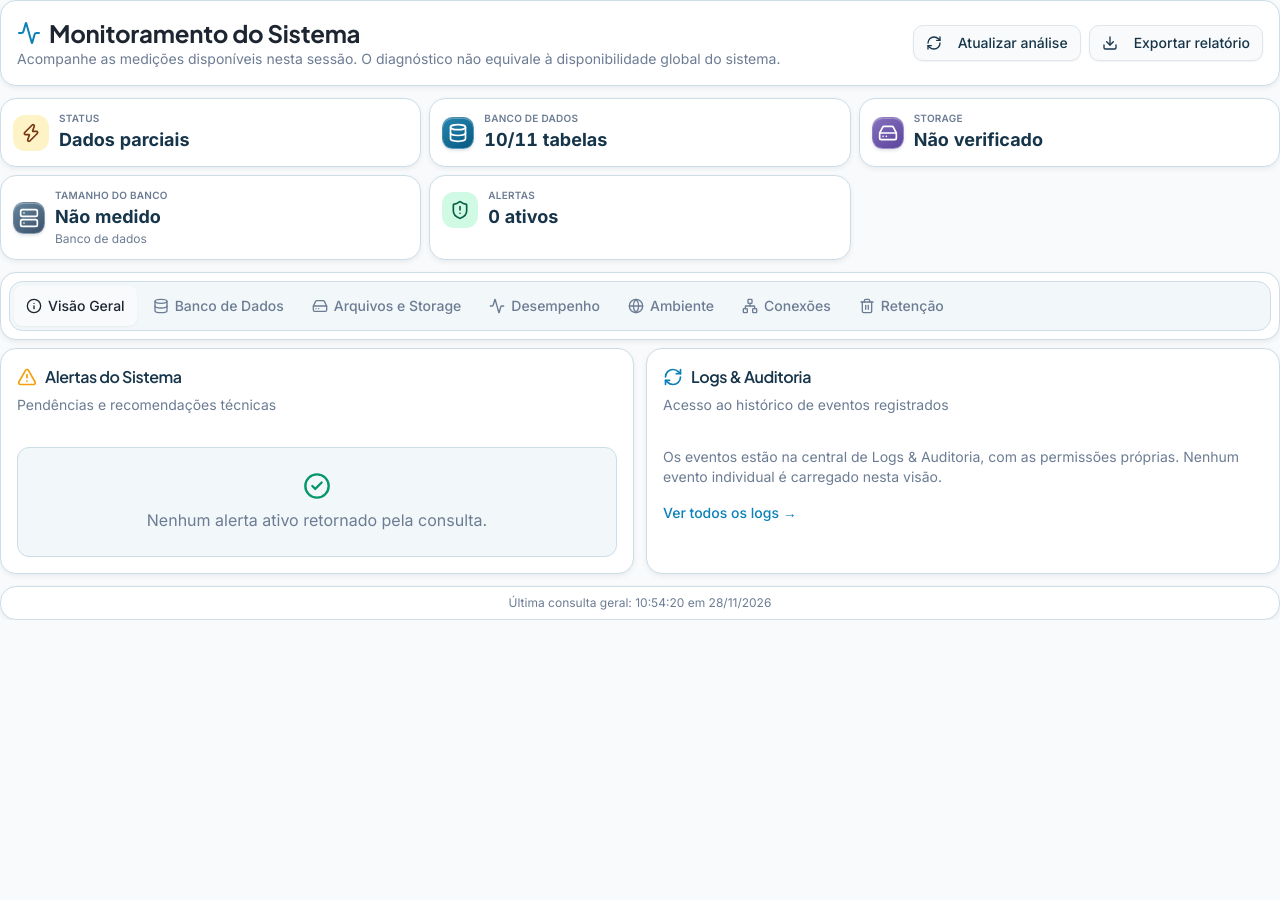
Monitoramento do Sistema › não interpreta uma falha do medidor como zero arquivos nem oferece exclusão
Later steps or results of the test are not shown.
Press the mouse on the tab "Arquivos e Storage" at (387, 306), box [300,286,473,326]
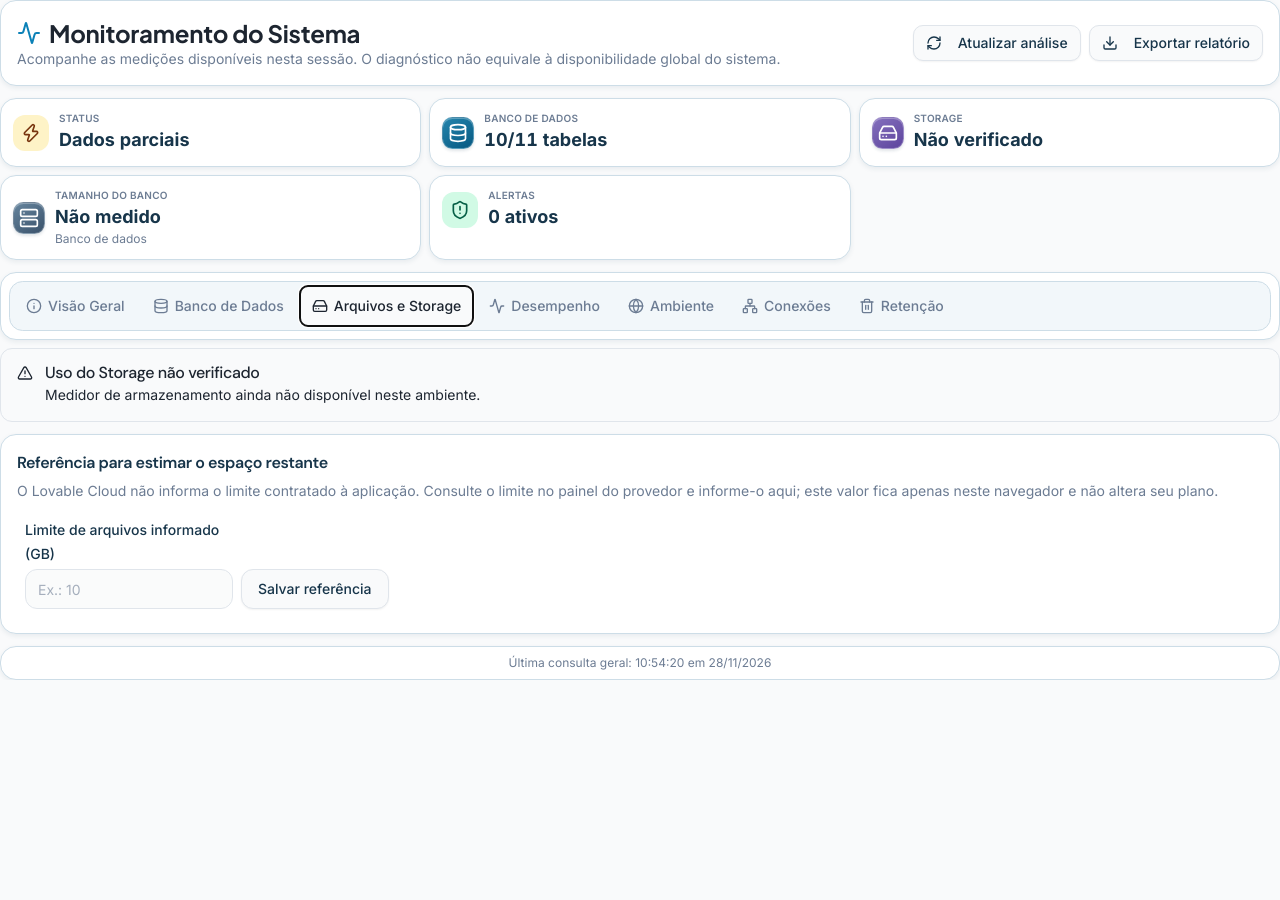
Check: the text "Medidor de armazenamento ainda não disponível" is shown, box [45,386,480,403]
